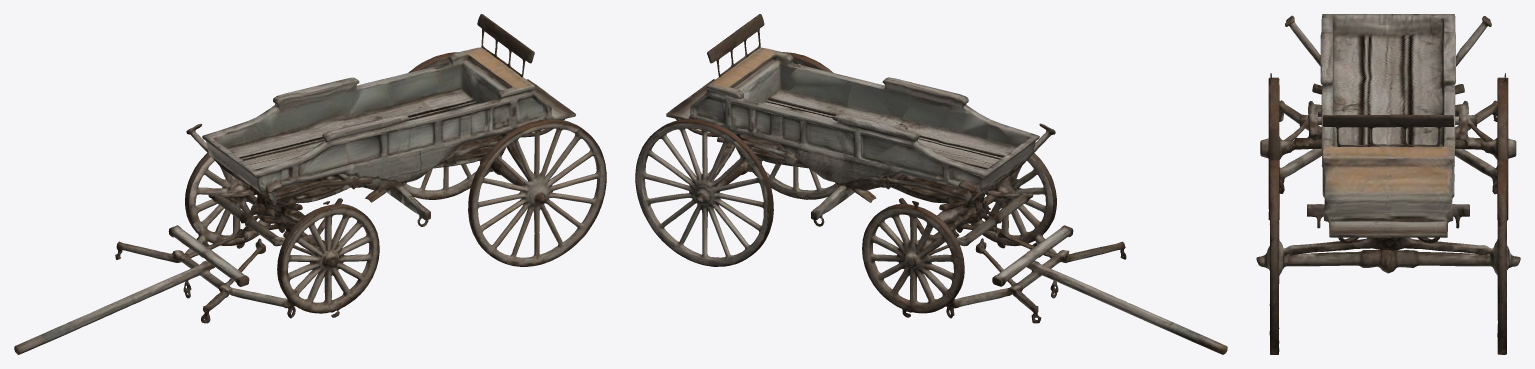
File: carruaje.glb
3 renders of one model, left to right at view 1: azimuth 30°, elevation 25°; view 2: azimuth 150°, elevation 25°; view 3: azimuth 270°, elevation 25°, orthographic. The views are drawn at different scales.
Visible parts, largest first — view 1: Mesh_0; view 2: Mesh_0; view 3: Mesh_0.
Part boxes in pixels (x1=…): Mesh_0: x1=14, y1=14, x2=606, y2=354; Mesh_0: x1=635, y1=14, x2=1227, y2=354; Mesh_0: x1=1256, y1=14, x2=1520, y2=354.
Size of the model in its own units: 1.9 by 0.6748 by 0.6441.
1 material, 1 textured.
